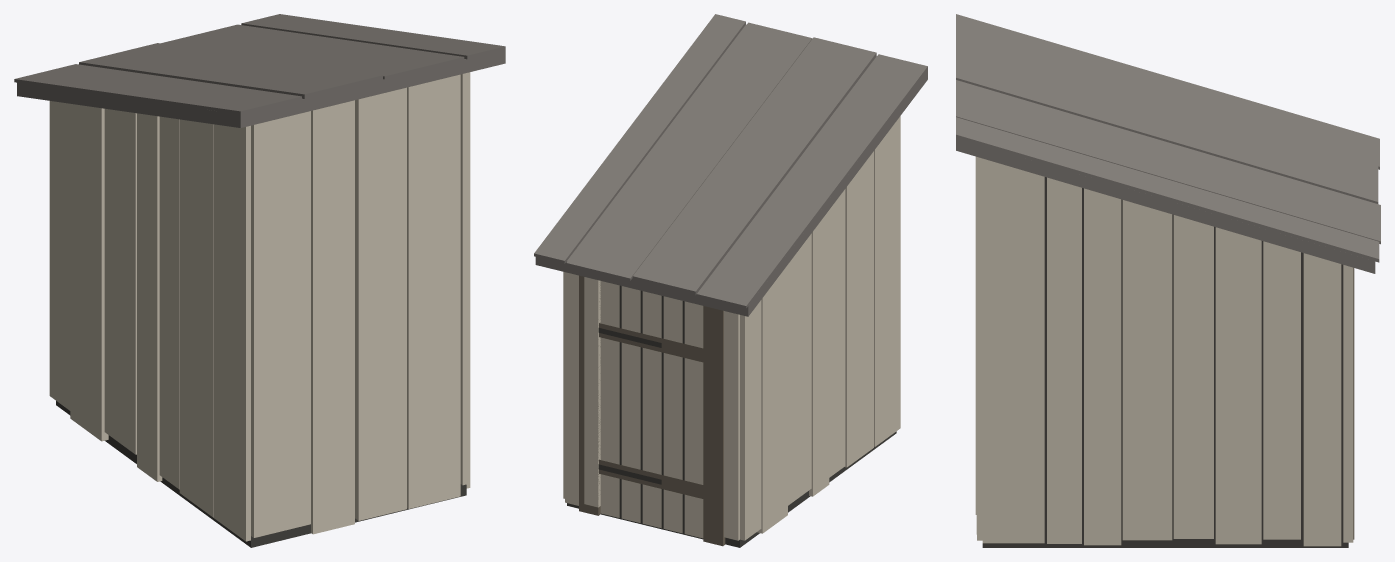
The model's file is recon_1835_blk_washington_dearborn_a3_03__inferred_1835.glb.
3 views of the same model, side by side, from view 1: azimuth 30°, elevation 25°; view 2: azimuth 150°, elevation 25°; view 3: azimuth 270°, elevation 25° (orthographic). The views are drawn at different scales.
Parts seen in each view (by area): view 1: recon_1835_blk_washington_dearborn_a3_03__inferred_1835; view 2: recon_1835_blk_washington_dearborn_a3_03__inferred_1835; view 3: recon_1835_blk_washington_dearborn_a3_03__inferred_1835.
Part boxes in pixels (left/top/right/bottom): recon_1835_blk_washington_dearborn_a3_03__inferred_1835: left=14, top=14, right=505, bottom=547; recon_1835_blk_washington_dearborn_a3_03__inferred_1835: left=534, top=14, right=927, bottom=547; recon_1835_blk_washington_dearborn_a3_03__inferred_1835: left=956, top=14, right=1380, bottom=547.
Size of the model in its own units: 1.74 by 2.86 by 2.58.
